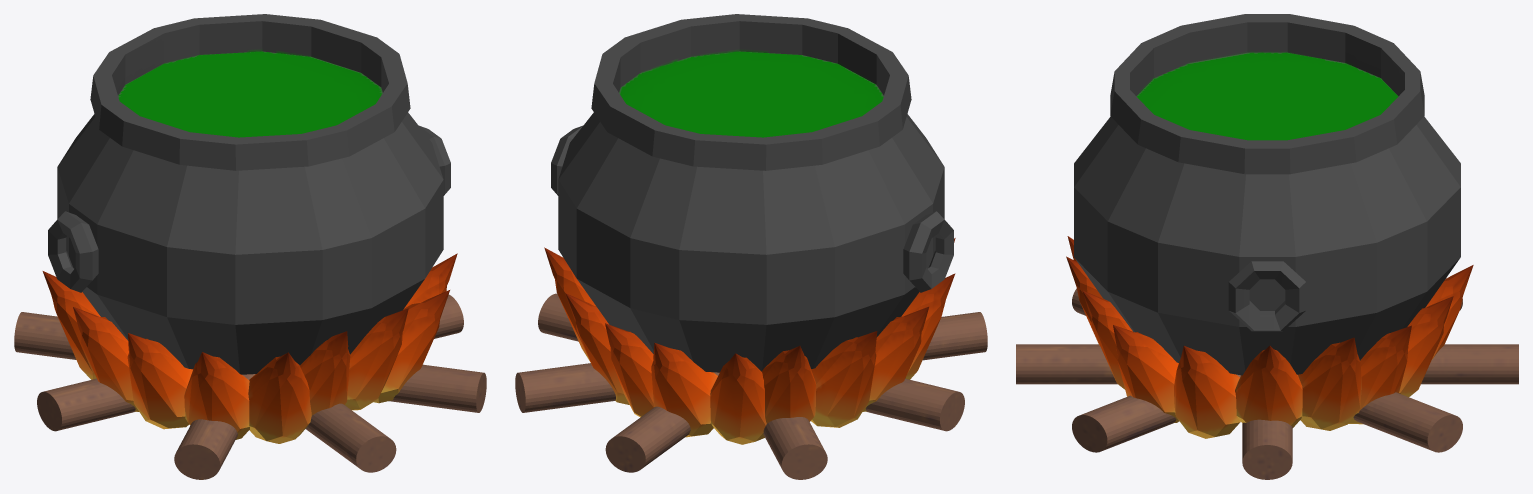
The model's file is calderoEstatico.obj.
3 views of the same model, side by side, from view 1: azimuth 30°, elevation 25°; view 2: azimuth 150°, elevation 25°; view 3: azimuth 270°, elevation 25° (orthographic).
Visible parts, largest first — view 1: Caldero.001; view 2: Caldero.001; view 3: Caldero.001.
Part boxes in pixels (x1,y1,x2,y2): Caldero.001: [14, 14, 486, 479]; Caldero.001: [515, 14, 987, 479]; Caldero.001: [1016, 14, 1518, 479].
Size of the model in its own units: 2.4 by 1.75 by 2.6.
1 material, 1 textured.
